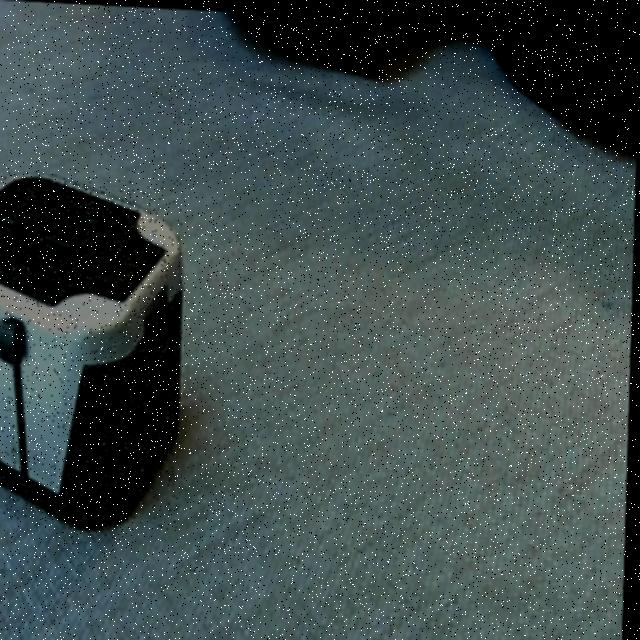adapter: (0, 172, 188, 531)
